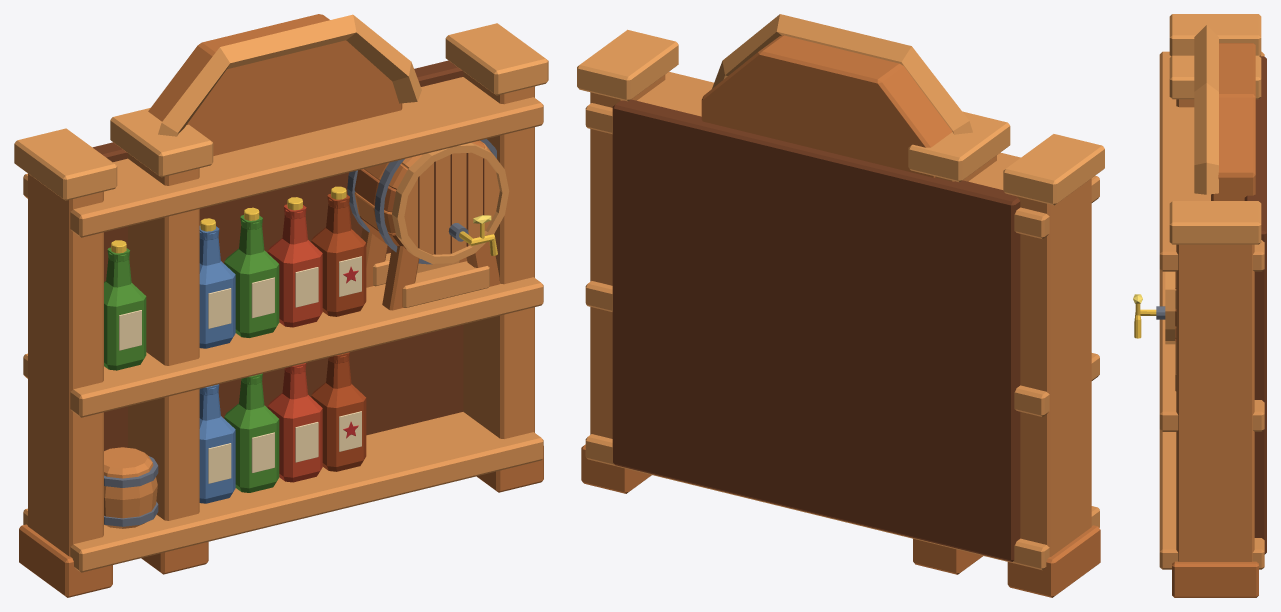
Rendered from BackBar.fbx.
3 renders of one model, left to right at view 1: azimuth 30°, elevation 25°; view 2: azimuth 150°, elevation 25°; view 3: azimuth 270°, elevation 25°, orthographic. The views are drawn at different scales.
Visible parts, largest first — view 1: GEO-Backbar_Shelf-upright, GEO-Backbar_Shelf-shelf.002, GEO-Backbar_Shelf-shelf, GEO-Backbar_Shelf-recess_back, GEO-Backbar_Shelf-shelf.001, GEO-Backbar_Shelf-raised_pediment, GEO-Backbar_Shelf-upright.001, GEO-Backbar_Shelf-upright.002, GEO-Backbar_Shelf-pediment_moulding, GEO-Backbar_Shelf-shelf_keg_head, GEO-Backbar_Shelf-top_finial, GEO-Backbar_Shelf-top_finial.002 (+29 smaller); view 2: GEO-Backbar_Shelf-recess_back, GEO-Backbar_Shelf-upright, GEO-Backbar_Shelf-raised_pediment, GEO-Backbar_Shelf-upright.002, GEO-Backbar_Shelf-pediment_moulding, GEO-Backbar_Shelf-top_finial.002, GEO-Backbar_Shelf-top_finial, GEO-Backbar_Shelf-shelf.002, GEO-Backbar_Shelf-top_finial.001, GEO-Backbar_Shelf-base_foot, GEO-Backbar_Shelf-shelf, GEO-Backbar_Shelf-shelf.001 (+2 smaller); view 3: GEO-Backbar_Shelf-upright.002, GEO-Backbar_Shelf-raised_pediment, GEO-Backbar_Shelf-shelf.002, GEO-Backbar_Shelf-recess_back, GEO-Backbar_Shelf-pediment_moulding, GEO-Backbar_Shelf-top_finial.002, GEO-Backbar_Shelf-base_foot.002, GEO-Backbar_Shelf-top_finial, GEO-Backbar_Shelf-shelf, GEO-Backbar_Shelf-shelf.001, GEO-Backbar_Shelf-top_finial.001, GEO-Backbar_Shelf-shelf_keg_front_rim (+1 smaller).
Boxes of the visible parts, box(x1,y1,x2,y2) form: GEO-Backbar_Shelf-upright: box(28, 173, 103, 556); GEO-Backbar_Shelf-shelf.002: box(23, 77, 543, 237); GEO-Backbar_Shelf-shelf: box(23, 412, 543, 572); GEO-Backbar_Shelf-recess_back: box(92, 60, 463, 450); GEO-Backbar_Shelf-shelf.001: box(23, 277, 543, 417); GEO-Backbar_Shelf-raised_pediment: box(148, 14, 402, 155); GEO-Backbar_Shelf-upright.001: box(128, 153, 199, 520); GEO-Backbar_Shelf-upright.002: box(463, 71, 534, 438); GEO-Backbar_Shelf-pediment_moulding: box(158, 14, 421, 136); GEO-Backbar_Shelf-shelf_keg_head: box(404, 152, 499, 254); GEO-Backbar_Shelf-top_finial: box(14, 128, 117, 200); GEO-Backbar_Shelf-top_finial.002: box(445, 23, 548, 95); GEO-Backbar_Shelf-recess_back: box(612, 99, 1020, 561); GEO-Backbar_Shelf-upright: box(1017, 178, 1091, 556); GEO-Backbar_Shelf-raised_pediment: box(701, 35, 952, 177); GEO-Backbar_Shelf-upright.002: box(590, 75, 665, 438); GEO-Backbar_Shelf-pediment_moulding: box(712, 14, 972, 134); GEO-Backbar_Shelf-top_finial.002: box(577, 29, 678, 101); GEO-Backbar_Shelf-top_finial: box(1003, 134, 1104, 205); GEO-Backbar_Shelf-shelf.002: box(585, 71, 1099, 239); GEO-Backbar_Shelf-top_finial.001: box(908, 111, 1010, 182); GEO-Backbar_Shelf-base_foot: box(1007, 525, 1100, 597); GEO-Backbar_Shelf-shelf: box(585, 434, 1099, 570); GEO-Backbar_Shelf-shelf.001: box(585, 281, 1099, 416); GEO-Backbar_Shelf-upright.002: box(1176, 244, 1254, 561); GEO-Backbar_Shelf-raised_pediment: box(1211, 43, 1255, 200); GEO-Backbar_Shelf-shelf.002: box(1159, 51, 1264, 271); GEO-Backbar_Shelf-recess_back: box(1244, 56, 1266, 554); GEO-Backbar_Shelf-pediment_moulding: box(1194, 25, 1218, 194); GEO-Backbar_Shelf-top_finial.002: box(1169, 201, 1261, 244); GEO-Backbar_Shelf-base_foot.002: box(1172, 561, 1258, 597); GEO-Backbar_Shelf-top_finial: box(1169, 14, 1261, 56); GEO-Backbar_Shelf-shelf: box(1159, 429, 1264, 569); GEO-Backbar_Shelf-shelf.001: box(1159, 269, 1264, 431); GEO-Backbar_Shelf-top_finial.001: box(1169, 55, 1261, 99); GEO-Backbar_Shelf-shelf_keg_front_rim: box(1165, 271, 1175, 344).
Bounding box in the file's own units: 223 × 218 × 59.89.
